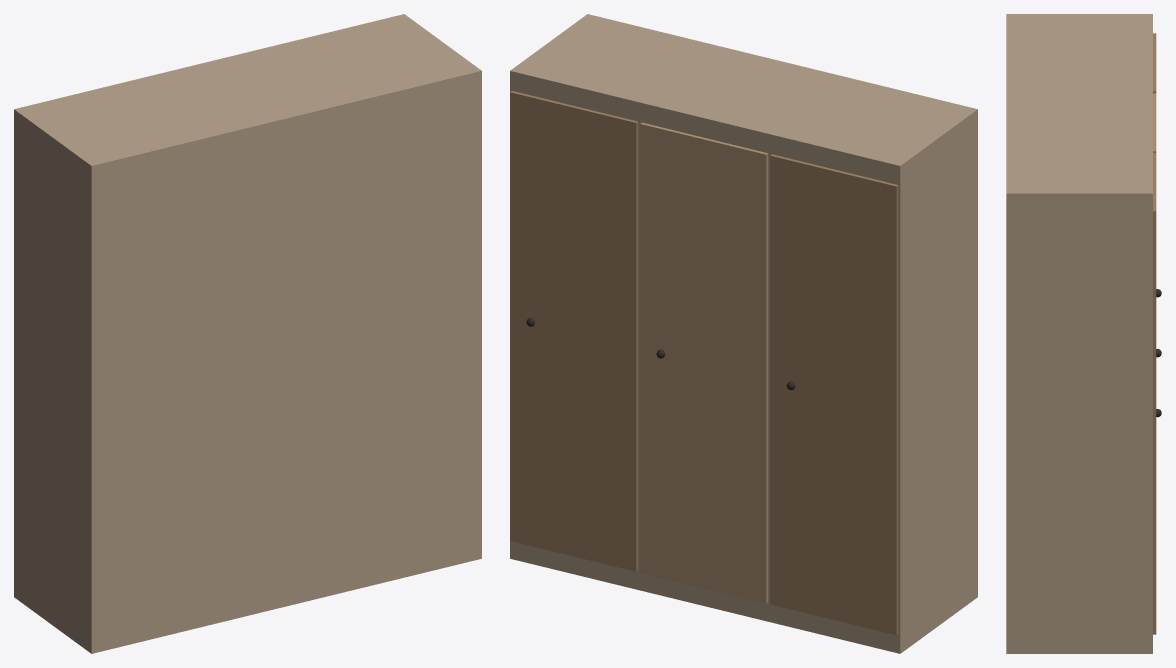
Rendered from mr-imola.glb.
The picture shows the model from 3 angles, left to right: view 1: azimuth 30°, elevation 25°; view 2: azimuth 150°, elevation 25°; view 3: azimuth 270°, elevation 25°; orthographic projection. The views are drawn at different scales.
Parts seen in each view (by area): view 1: cabinet; view 2: cabinet, door-1, door-2, door-3; view 3: cabinet, door-3.
Boxes of the visible parts, x1,y1,x2,y2 form: cabinet: (14,14,481,653); cabinet: (510,14,977,653); door-1: (770,154,898,635); door-2: (640,122,768,603); door-3: (510,91,638,571); cabinet: (1006,14,1152,653); door-3: (1153,153,1156,634).
Bounding box in the file's own units: 1.8 × 2.15 × 0.6571.
